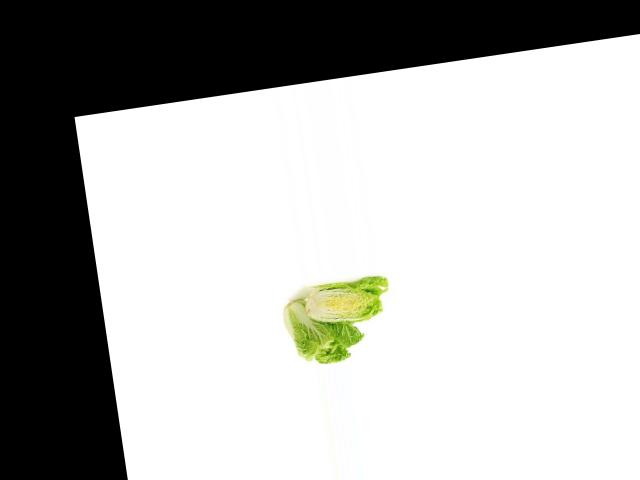lettuce: (278, 285, 372, 372)
